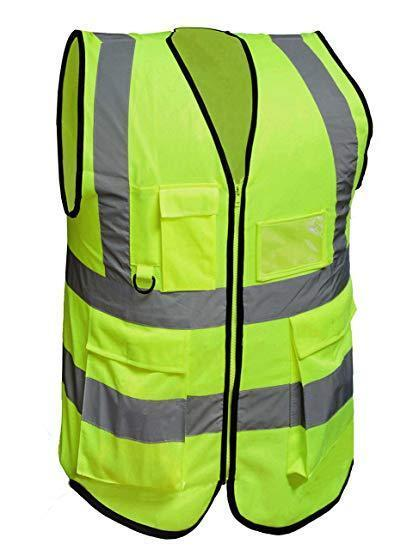vest: (54, 24, 375, 538)
